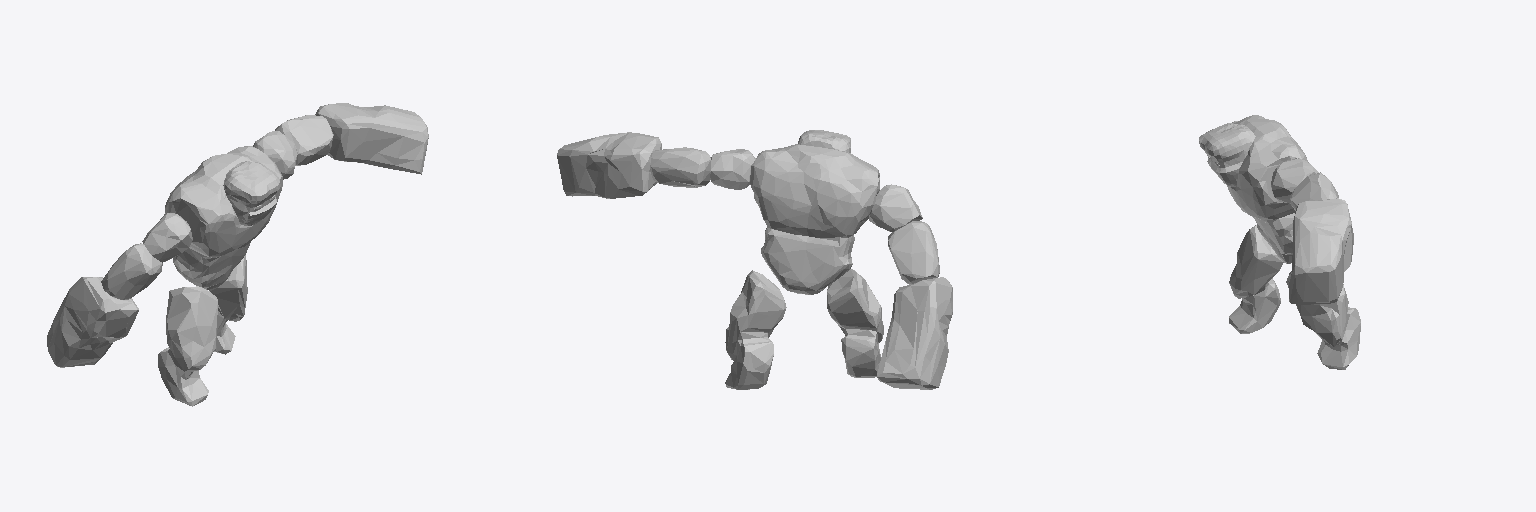
Rendered from Ataque3.obj.
3 views of the same model, side by side, from view 1: azimuth 30°, elevation 25°; view 2: azimuth 150°, elevation 25°; view 3: azimuth 270°, elevation 25° (orthographic).
Parts seen in each view (by area): view 1: Stone1:Mesh; view 2: Stone1:Mesh; view 3: Stone1:Mesh.
Part boxes in pixels (x1,y1,x2,y2): Stone1:Mesh: (47,103,428,406); Stone1:Mesh: (557,130,952,389); Stone1:Mesh: (1199,115,1360,369).
Size of the model in its own units: 16.03 by 9.34 by 6.07.